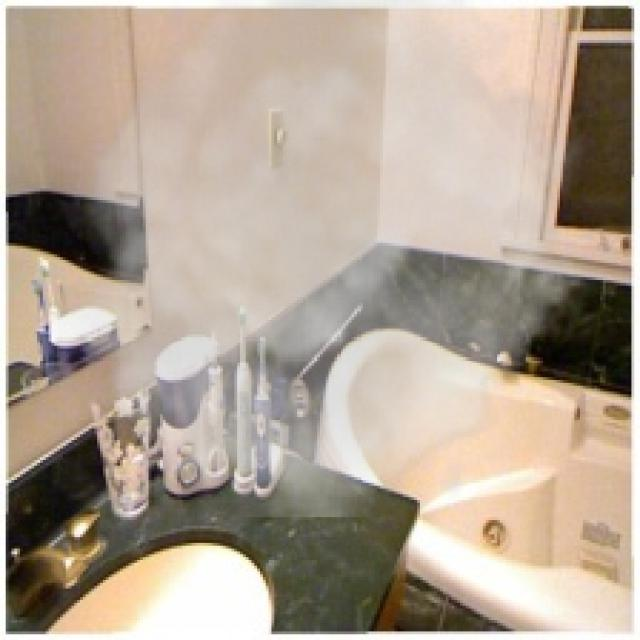smoke: (48, 0, 603, 517)
